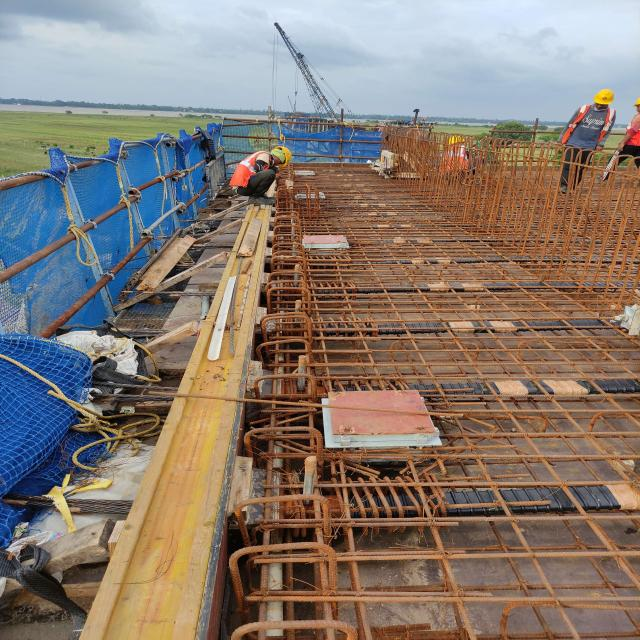Safetyvest: (573, 106, 612, 146), (233, 154, 271, 192)
